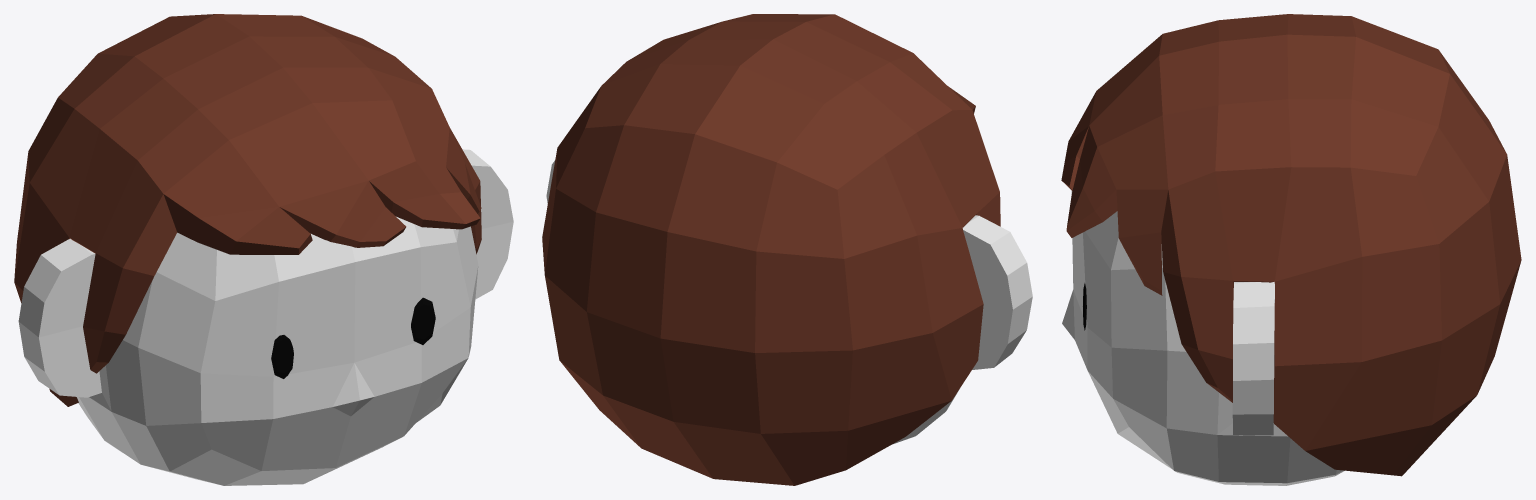
File: playerA_man_Head.fbx
3 views of the same model, side by side, from view 1: azimuth 30°, elevation 25°; view 2: azimuth 150°, elevation 25°; view 3: azimuth 270°, elevation 25° (orthographic). The views are drawn at different scales.
Visible parts, largest first — view 1: Hair, head, eyes; view 2: Hair, head; view 3: Hair, head.
Part boxes in pixels (bbox=[...]): Hair: bbox=[14, 14, 481, 406]; head: bbox=[18, 149, 513, 485]; eyes: bbox=[271, 297, 435, 378]; Hair: bbox=[542, 14, 1000, 485]; head: bbox=[546, 160, 1032, 444]; Hair: bbox=[1061, 14, 1521, 476]; head: bbox=[1062, 191, 1344, 485].
Size of the model in its own units: 161 by 136 by 132.
